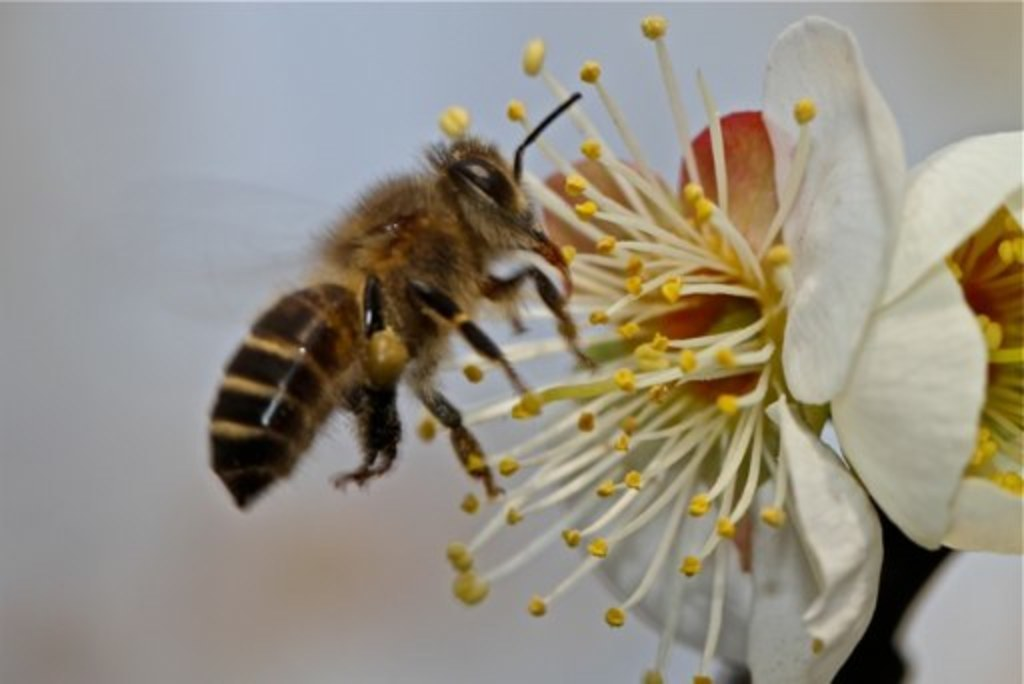bee: (212, 94, 582, 506)
insect: (418, 12, 904, 682), (832, 122, 1022, 570)
